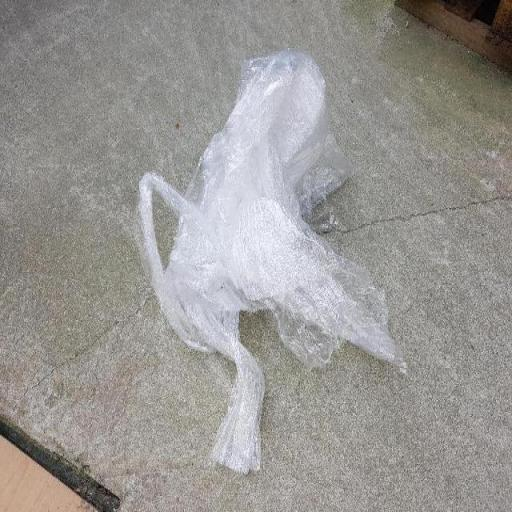plastic-bag: (135, 47, 410, 478)
